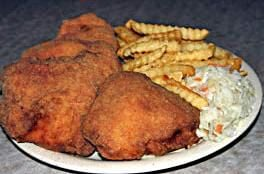soup: (0, 9, 232, 160), (81, 71, 207, 161)
